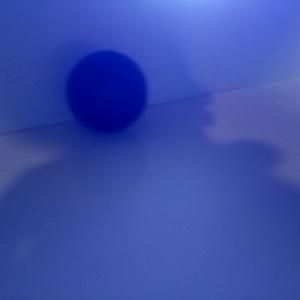dead_ball: (67, 49, 146, 133)
